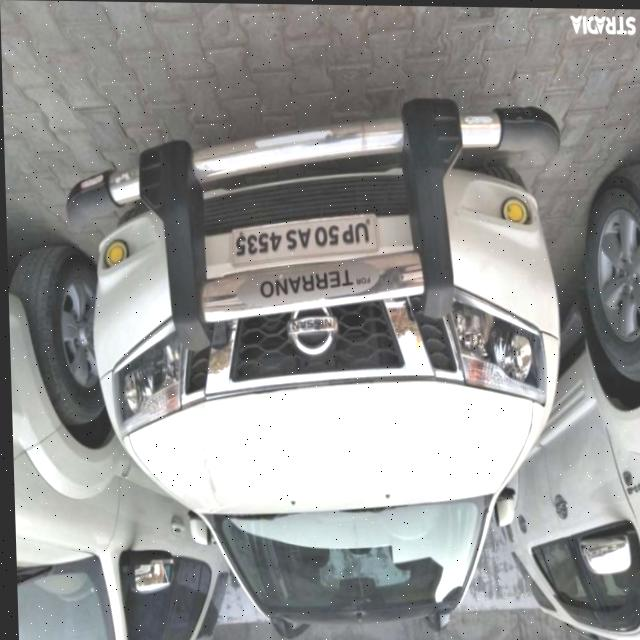plate: (229, 213, 379, 265)
